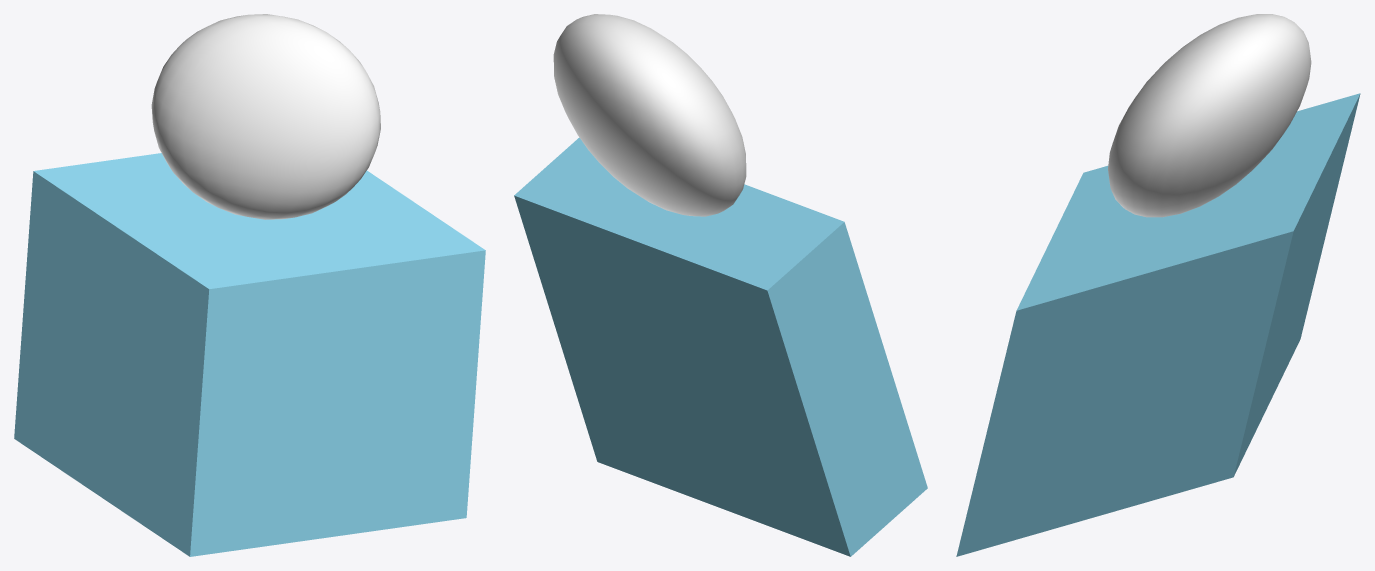
The model's file is AffineTransformationAnim.glb.
3 renders of one model, left to right at view 1: azimuth 30°, elevation 25°; view 2: azimuth 150°, elevation 25°; view 3: azimuth 270°, elevation 25°, orthographic. The views are drawn at different scales.
Visible parts, largest first — view 1: Cube, Sphere; view 2: Cube, Sphere; view 3: Cube, Sphere.
Part boxes in pixels (x1=…): Cube: x1=14, y1=153, x2=485, y2=556; Sphere: x1=151, y1=14, x2=380, y2=219; Cube: x1=514, y1=137, x2=927, y2=556; Sphere: x1=553, y1=14, x2=746, y2=216; Cube: x1=956, y1=93, x2=1360, y2=556; Sphere: x1=1108, y1=14, x2=1311, y2=217.
Bounding box in the file's own units: 1.39 × 1.63 × 1.23.
